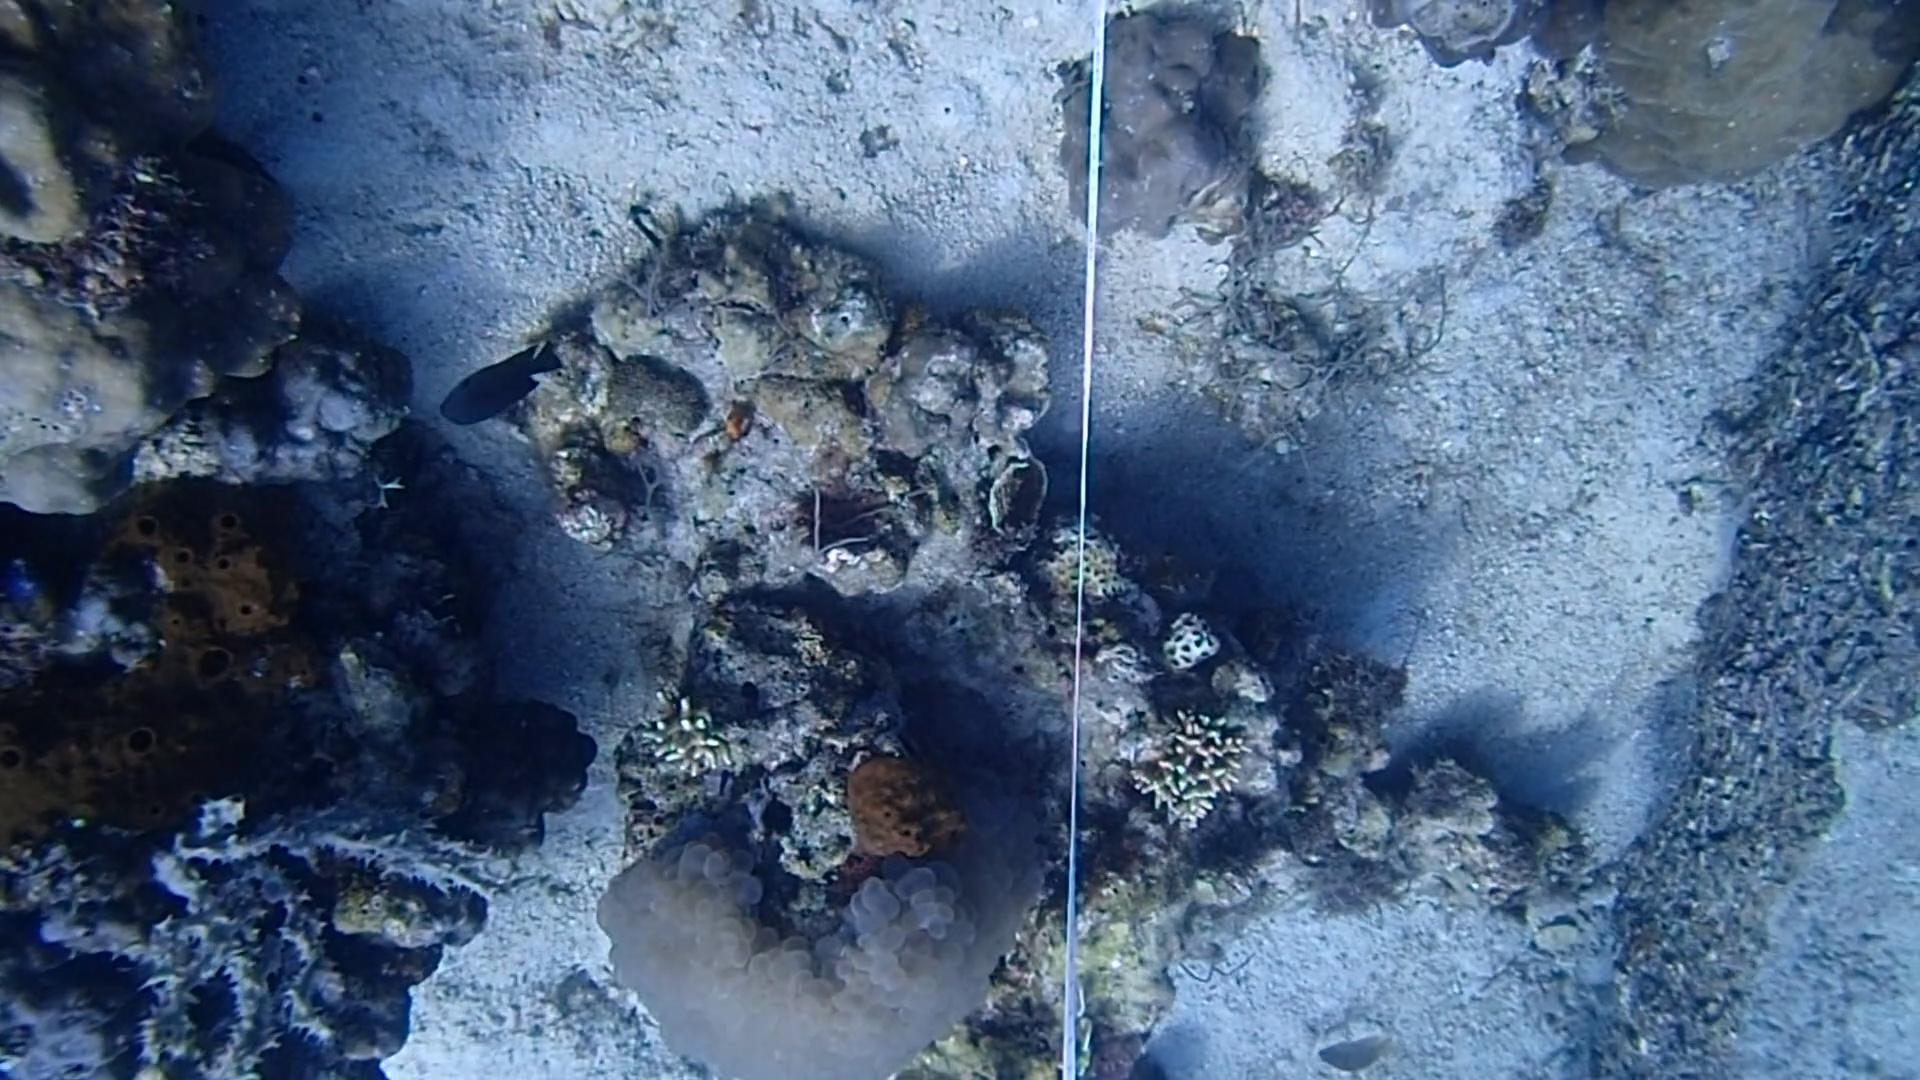Big Dark Blue Fish: (411, 318, 587, 444)
Light Fish: (1305, 1021, 1408, 1080)
